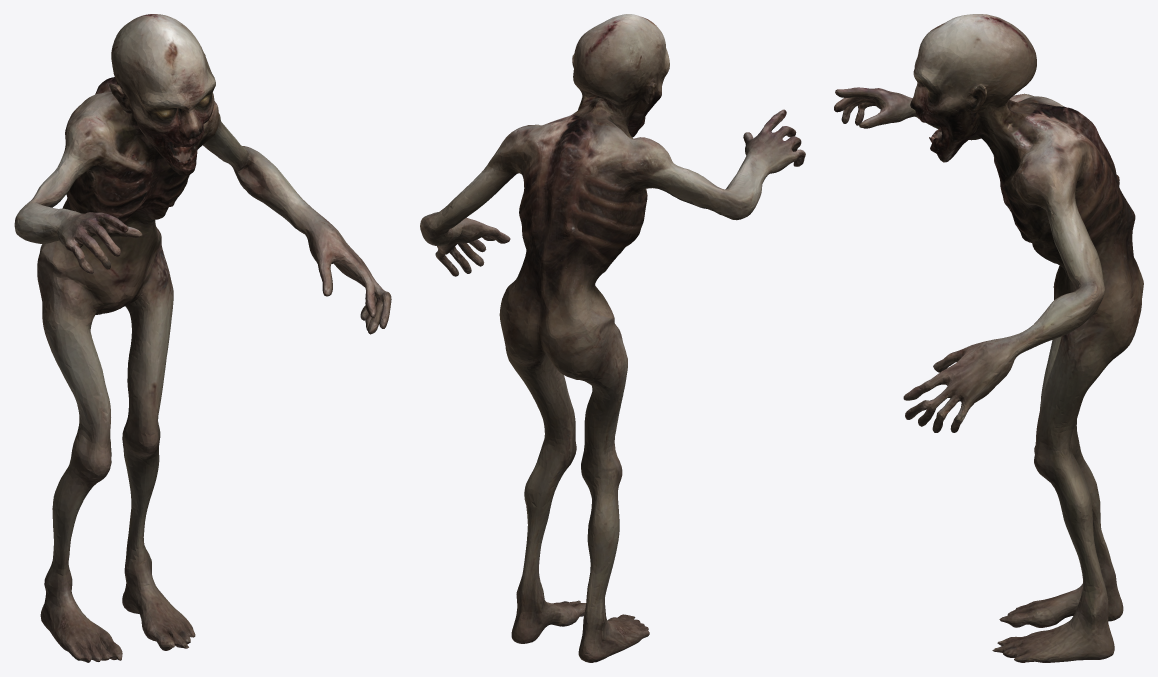
Rendered from zombie 1.glb.
3 views of the same model, side by side, from view 1: azimuth 30°, elevation 25°; view 2: azimuth 150°, elevation 25°; view 3: azimuth 270°, elevation 25° (orthographic). The views are drawn at different scales.
Size of the model in its own units: 1.15 by 2 by 0.9037.
Materials: 1 (1 with a texture image).
